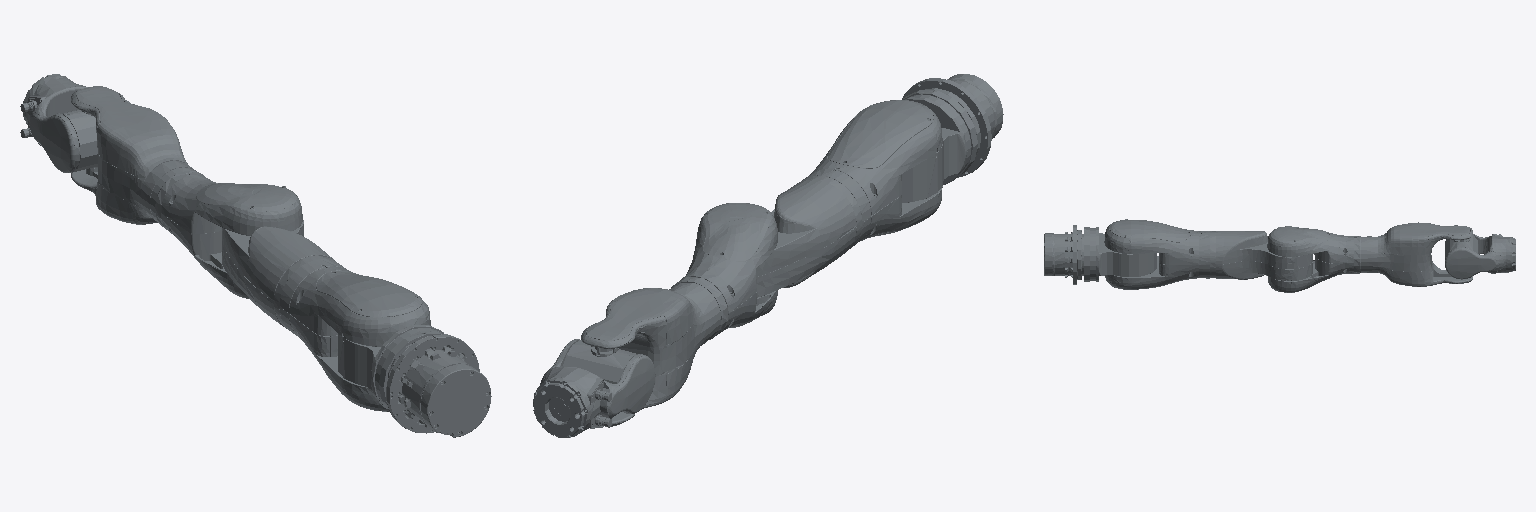
robot.urdf — sl_br_r73:
<?xml version="1.0" encoding="utf-8"?>
<!-- This URDF was automatically created by TianGong URDF Exporter! -->
<robot
  name="sl_br_r73">
  <link
    name="base_link">
    <inertial>
      <origin
        xyz="-0.0001984 0.0040003 7.0325E-05"
        rpy="0 0 0" />
      <mass
        value="0.084989" />
      <inertia
        ixx="0.00010929"
        ixy="-4.4652E-10"
        ixz="1.2315E-07"
        iyy="0.00021825"
        iyz="4.2535E-09"
        izz="0.00010986" />
    </inertial>
    <visual>
      <origin
        xyz="0 0 0"
        rpy="0 0 0" />
      <geometry>
        <mesh
          filename="../meshes/base_link.STL" />
      </geometry>
      <material
        name="6061-T6">
        <color
          rgba="0.50698 0.53156 0.55 1" />
      </material>
    </visual>
    <collision>
      <origin
        xyz="0 0 0"
        rpy="0 0 0" />
      <geometry>
        <mesh
          filename="../meshes/base_link.STL" />
      </geometry>
    </collision>
  </link>
  <link
    name="Link_0">
    <inertial>
      <origin
        xyz="4.6978E-05 -5.896E-05 -0.012502"
        rpy="0 0 0" />
      <mass
        value="1.4075" />
      <inertia
        ixx="0.0017145"
        ixy="-9.6642E-07"
        ixz="2.1318E-06"
        iyy="0.0017149"
        iyz="-4.0027E-06"
        izz="0.0012058" />
    </inertial>
    <visual>
      <origin
        xyz="8.2134E-17 2.754E-16 -0.008"
        rpy="1.5708 0 0" />
      <geometry>
        <mesh
          filename="../meshes/Link_0.STL" />
      </geometry>
      <material
        name="6061-T6">
        <color
          rgba="0.50698 0.53156 0.55 1" />
      </material>
    </visual>
    <collision>
      <origin
        xyz="8.21342915589759E-17 2.75396801537129E-16 -0.008"
        rpy="1.5707963267949 0 0" />
      <geometry>
        <mesh
          filename="../meshes/Link_0.STL" />
      </geometry>
    </collision>
  </link>
  <joint
    name="joint0"
    type="fixed">
    <origin
      xyz="0 0.008 0"
      rpy="-1.5708 0 0" />
    <parent
      link="base_link" />
    <child
      link="Link_0" />
    <axis
      xyz="0 0 0" />
  </joint>
  <link
    name="Link_1">
    <inertial>
      <origin
        xyz="2.5808E-06 2.6235E-06 -0.01725"
        rpy="0 0 0" />
      <mass
        value="1.473" />
      <inertia
        ixx="0.0022963"
        ixy="4.2121E-08"
        ixz="1.9821E-08"
        iyy="0.0028896"
        iyz="1.5814E-07"
        izz="0.0014782" />
    </inertial>
    <visual>
      <origin
        xyz="2.4945E-16 2.6915E-16 -0.11"
        rpy="1.5708 0 0" />
      <geometry>
        <mesh
          filename="../meshes/Link_1.STL" />
      </geometry>
      <material
        name="6061-T6">
        <color
          rgba="0.50698 0.53156 0.55 1" />
      </material>
    </visual>
    <collision>
      <origin
        xyz="2.49450504635775E-16 2.69151309132635E-16 -0.11"
        rpy="1.5707963267949 0 0" />
      <geometry>
        <mesh
          filename="../meshes/Link_1.STL" />
      </geometry>
    </collision>
  </link>
  <joint
    name="joint1"
    type="revolute">
    <origin
      xyz="0 0 0.102"
      rpy="0 0 0" />
    <parent
      link="Link_0" />
    <child
      link="Link_1" />
    <axis
      xyz="0 0 1" />
    <limit
      lower="-3.05"
      upper="3.05"
      effort="100"
      velocity="3.14" />
  </joint>
  <link
    name="Link_2">
    <inertial>
      <origin
        xyz="-2.541E-06 -0.045267 4.8255E-05"
        rpy="0 0 0" />
      <mass
        value="3.0276" />
      <inertia
        ixx="0.010783"
        ixy="-2.5972E-06"
        ixz="4.4984E-06"
        iyy="0.0054116"
        iyz="-5.282E-05"
        izz="0.0089381" />
    </inertial>
    <visual>
      <origin
        xyz="3.816E-15 0.11 2.6242E-16"
        rpy="3.1416 0 0" />
      <geometry>
        <mesh
          filename="../meshes/Link_2.STL" />
      </geometry>
      <material
        name="6061-T6">
        <color
          rgba="0.50698 0.53156 0.55 1" />
      </material>
    </visual>
    <collision>
      <origin
        xyz="3.81604197124409E-15 0.11 2.62415974186612E-16"
        rpy="3.14159265358979 0 0" />
      <geometry>
        <mesh
          filename="../meshes/Link_2.STL" />
      </geometry>
    </collision>
  </link>
  <joint
    name="joint2"
    type="revolute">
    <origin
      xyz="0 0 0"
      rpy="-1.5708 0 0" />
    <parent
      link="Link_1" />
    <child
      link="Link_2" />
    <axis
      xyz="0 0 1" />
    <limit
      lower="-1.74"
      upper="1.74"
      effort="100"
      velocity="3.14" />
  </joint>
  <link
    name="Link_3">
    <inertial>
      <origin
        xyz="0.0045957 -7.1158E-07 -0.078573"
        rpy="0 0 0" />
      <mass
        value="2.9789" />
      <inertia
        ixx="0.012126"
        ixy="-2.198E-07"
        ixz="-0.0013926"
        iyy="0.012602"
        iyz="1.9196E-07"
        izz="0.0030018" />
    </inertial>
    <visual>
      <origin
        xyz="-1.1026E-13 2.5057E-16 -0.4135"
        rpy="1.5708 0 0" />
      <geometry>
        <mesh
          filename="../meshes/Link_3.STL" />
      </geometry>
      <material
        name="6061-T6">
        <color
          rgba="0.50698 0.53156 0.55 1" />
      </material>
    </visual>
    <collision>
      <origin
        xyz="-1.10258562475686E-13 2.5056790771338E-16 -0.4135"
        rpy="1.5707963267949 0 0" />
      <geometry>
        <mesh
          filename="../meshes/Link_3.STL" />
      </geometry>
    </collision>
  </link>
  <joint
    name="joint3"
    type="revolute">
    <origin
      xyz="0 -0.3035 0"
      rpy="1.5708 0 0" />
    <parent
      link="Link_2" />
    <child
      link="Link_3" />
    <axis
      xyz="0 0 1" />
    <limit
      lower="-3.05"
      upper="3.05"
      effort="50"
      velocity="3.14" />
  </joint>
  <link
    name="Link_4">
    <inertial>
      <origin
        xyz="-0.013473 -0.048993 0.0051256"
        rpy="0 0 0" />
      <mass
        value="0.92829" />
      <inertia
        ixx="0.0027608"
        ixy="-0.00038461"
        ixz="-6.2678E-05"
        iyy="0.0013323"
        iyz="-0.00023988"
        izz="0.0023796" />
    </inertial>
    <visual>
      <origin
        xyz="-0.0225 0.4135 4.0019E-08"
        rpy="3.1416 0 0" />
      <geometry>
        <mesh
          filename="../meshes/Link_4.STL" />
      </geometry>
      <material
        name="6061-T6">
        <color
          rgba="0.50698 0.53156 0.55 1" />
      </material>
    </visual>
    <collision>
      <origin
        xyz="-0.0225000142271486 0.4135 4.00190876025235E-08"
        rpy="3.14159265358979 0 0" />
      <geometry>
        <mesh
          filename="../meshes/Link_4.STL" />
      </geometry>
    </collision>
  </link>
  <joint
    name="joint4"
    type="revolute">
    <origin
      xyz="0.0225 0 0"
      rpy="-1.5708 0 0" />
    <parent
      link="Link_3" />
    <child
      link="Link_4" />
    <axis
      xyz="0 0 1" />
    <limit
      lower="-1.13"
      upper="2.7"
      effort="50"
      velocity="3.14" />
  </joint>
  <link
    name="Link_5">
    <inertial>
      <origin
        xyz="-5.3765E-05 -0.00015766 -0.1118"
        rpy="0 0 0" />
      <mass
        value="2.5834" />
      <inertia
        ixx="0.0079163"
        ixy="5.494E-06"
        ixz="9.2578E-06"
        iyy="0.0067647"
        iyz="2.6761E-05"
        izz="0.0031713" />
    </inertial>
    <visual>
      <origin
        xyz="-1.5212E-09 2.3058E-16 -0.74"
        rpy="1.5708 0 0" />
      <geometry>
        <mesh
          filename="../meshes/Link_5.STL" />
      </geometry>
      <material
        name="6061-T6">
        <color
          rgba="0.50698 0.53156 0.55 1" />
      </material>
    </visual>
    <collision>
      <origin
        xyz="-1.52123682715914E-09 2.3057620898723E-16 -0.74"
        rpy="1.5707963267949 0 0" />
      <geometry>
        <mesh
          filename="../meshes/Link_5.STL" />
      </geometry>
    </collision>
  </link>
  <joint
    name="joint5"
    type="revolute">
    <origin
      xyz="-0.0225 -0.3265 0"
      rpy="1.5708 0 0" />
    <parent
      link="Link_4" />
    <child
      link="Link_5" />
    <axis
      xyz="0 0 1" />
    <limit
      lower="-3.05"
      upper="3.05"
      effort="20"
      velocity="5.23" />
  </joint>
  <link
    name="Link_6">
    <inertial>
      <origin
        xyz="-9.2454E-08 6.8948E-05 -0.00011233"
        rpy="0 0 0" />
      <mass
        value="0.67246" />
      <inertia
        ixx="0.0004782"
        ixy="3.7059E-10"
        ixz="-1.8012E-09"
        iyy="0.00037075"
        iyz="-4.232E-07"
        izz="0.00047061" />
    </inertial>
    <visual>
      <origin
        xyz="-0.74 -1.204E-12 3.6867E-13"
        rpy="3.1416 -7.3675E-33 1.5708" />
      <geometry>
        <mesh
          filename="../meshes/Link_6.STL" />
      </geometry>
      <material
        name="6061-T6">
        <color
          rgba="0.50698 0.53156 0.55 1" />
      </material>
    </visual>
    <collision>
      <origin
        xyz="-0.74 -1.20398612224667E-12 3.68668287646985E-13"
        rpy="3.14159265358979 -7.36746814912829E-33 1.5707963267949" />
      <geometry>
        <mesh
          filename="../meshes/Link_6.STL" />
      </geometry>
    </collision>
  </link>
  <joint
    name="joint6"
    type="revolute">
    <origin
      xyz="0 0 0"
      rpy="-1.5708 -1.5708 0" />
    <parent
      link="Link_5" />
    <child
      link="Link_6" />
    <axis
      xyz="0 0 1" />
    <limit
      lower="-1.05"
      upper="1.05"
      effort="20"
      velocity="5.23" />
  </joint>
  <link
    name="Link_7">
    <inertial>
      <origin
        xyz="0.055982 -2.8697E-05 1.1566E-05"
        rpy="0 0 0" />
      <mass
        value="0.71701" />
      <inertia
        ixx="0.00077065"
        ixy="3.1342E-07"
        ixz="8.5013E-06"
        iyy="0.0014176"
        iyz="-6.3247E-07"
        izz="0.0010312" />
    </inertial>
    <visual>
      <origin
        xyz="-0.74 -3.6871E-13 -1.3079E-12"
        rpy="-1.5708 -1.5708 0" />
      <geometry>
        <mesh
          filename="../meshes/Link_7.STL" />
      </geometry>
      <material
        name="6061-T6">
        <color
          rgba="0.50698 0.53156 0.55 1" />
      </material>
    </visual>
    <collision>
      <origin
        xyz="-0.74 -3.68713596583623E-13 -1.30786566718658E-12"
        rpy="-1.5707963267949 -1.5707963267949 0" />
      <geometry>
        <mesh
          filename="../meshes/Link_7.STL" />
      </geometry>
    </collision>
  </link>
  <joint
    name="joint7"
    type="revolute">
    <origin
      xyz="0 0 0"
      rpy="-1.5708 0 0" />
    <parent
      link="Link_6" />
    <child
      link="Link_7" />
    <axis
      xyz="0 0 1" />
    <limit
      lower="-1.57"
      upper="1.57"
      effort="20"
      velocity="5.23" />
  </joint>
</robot>

--- Render facts (derived) ---
3 views of the same robot in one strip: view 1: azimuth 30°, elevation 25°; view 2: azimuth 150°, elevation 25°; view 3: azimuth 270°, elevation 25° (orthographic).
Model sl_br_r73 with 9 links and 8 joints (7 revolute, 1 fixed), rooted at base_link, posed all joints at 0.
Visible links, largest first — view 1: Link_5, Link_2, Link_4, Link_3, Link_0, Link_7, Link_1, base_link, Link_6; view 2: Link_5, Link_2, Link_3, Link_4, Link_7, Link_1, Link_6, Link_0, base_link; view 3: Link_5, Link_2, Link_3, Link_4, Link_7, Link_1, Link_0.
Link boxes in pixels (x1,y1,x2,y2): Link_5: (71, 86, 204, 229); Link_2: (289, 266, 430, 411); Link_4: (161, 175, 302, 298); Link_3: (222, 220, 345, 335); Link_0: (388, 344, 491, 437); Link_7: (20, 74, 129, 172); Link_1: (338, 325, 443, 409); base_link: (386, 334, 479, 433); Link_6: (61, 109, 97, 172); Link_5: (581, 277, 727, 426); Link_2: (810, 100, 942, 240); Link_3: (756, 169, 871, 297); Link_4: (680, 203, 777, 333); Link_7: (533, 339, 655, 437); Link_1: (902, 90, 977, 202); Link_6: (563, 340, 637, 412); Link_0: (925, 74, 1003, 155); base_link: (902, 78, 991, 177); Link_5: (1354, 222, 1472, 286); Link_2: (1104, 219, 1198, 289); Link_3: (1199, 231, 1312, 280); Link_4: (1267, 226, 1353, 292); Link_7: (1445, 234, 1515, 278); Link_1: (1084, 227, 1156, 281); Link_0: (1044, 230, 1083, 279).
Size in the robot's own frame: 0.1236 by 0.8965 by 0.1254 metres.
9 mesh visuals loaded from 9 distinct referenced files (9 binary STL).
